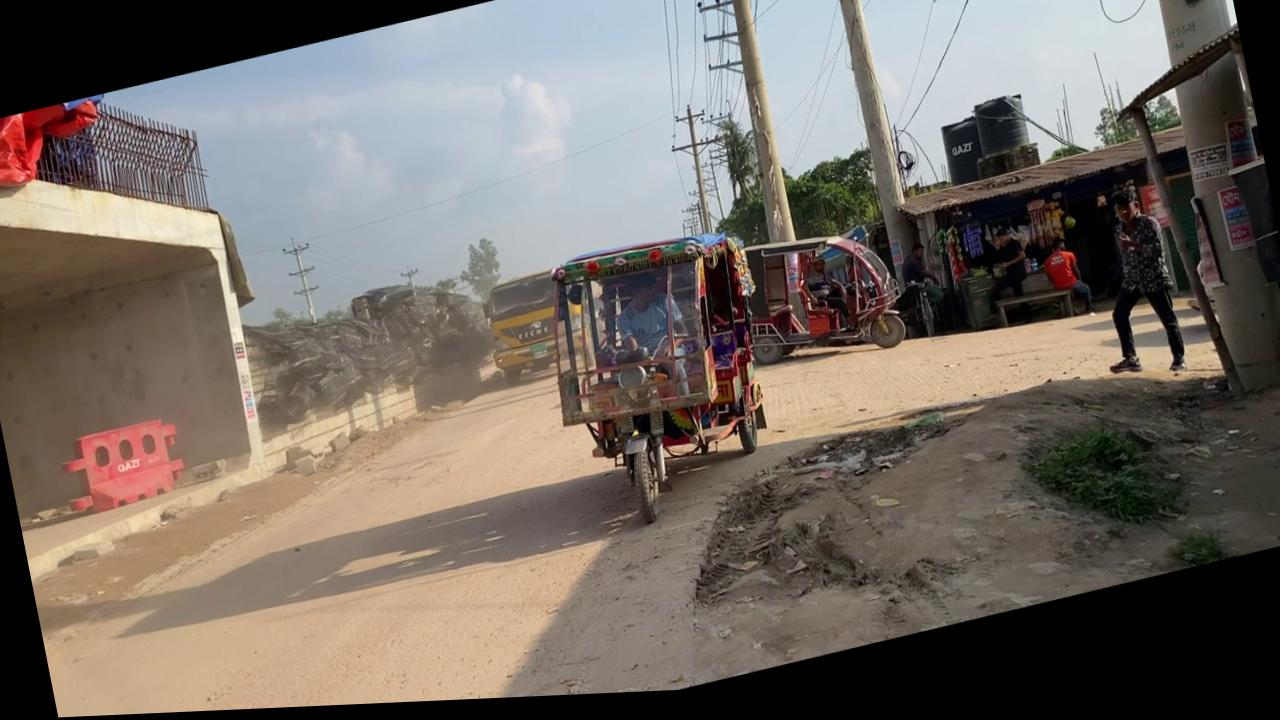Bench: (992, 291, 1076, 342)
Fence: (23, 82, 213, 249)
Garbage: (239, 266, 494, 432)
Pole: (1119, 0, 1280, 422), (1126, 103, 1244, 424), (819, 0, 924, 306), (710, 0, 797, 255)
Rickshaw: (646, 332, 1280, 684)
Traffic-sign: (451, 237, 507, 312)
Tree: (530, 222, 789, 545), (742, 217, 913, 382), (346, 267, 492, 400), (476, 266, 594, 390)
